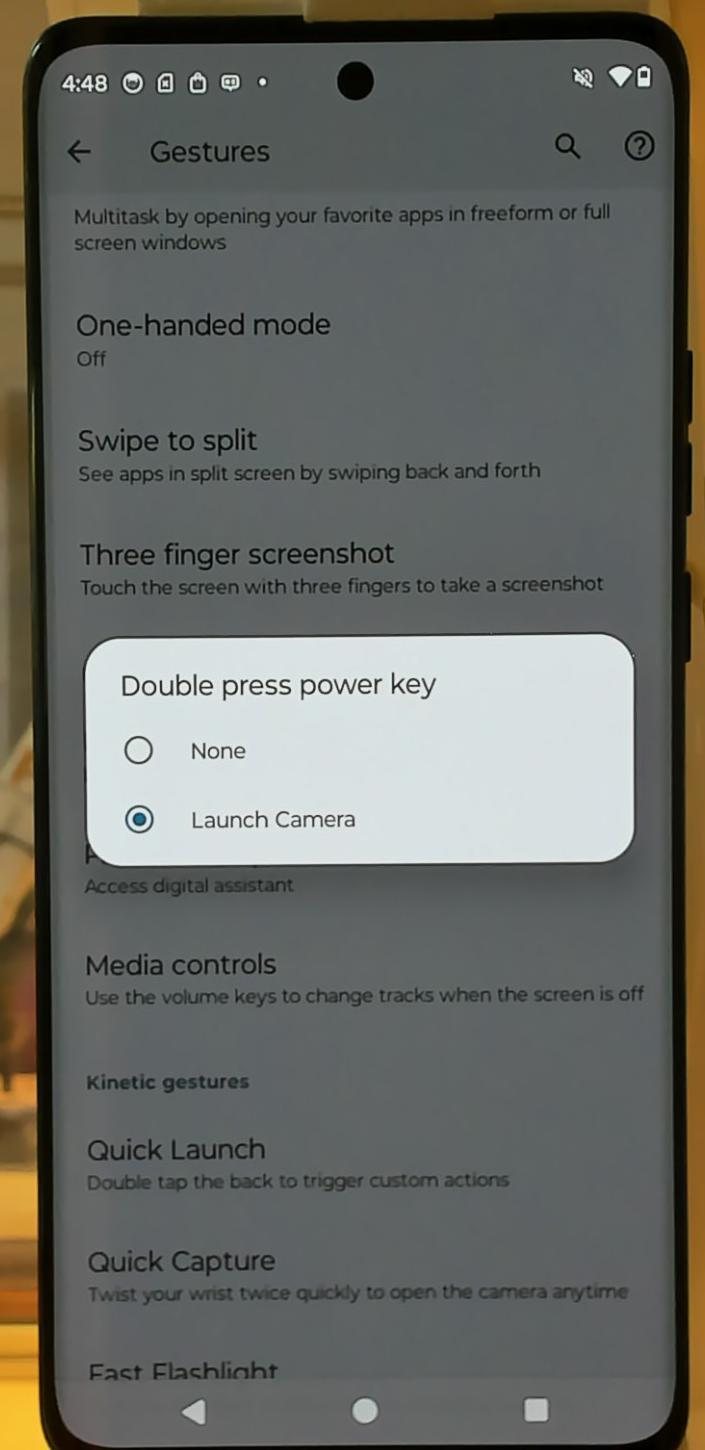RadioButton: (116, 795, 376, 844), (112, 725, 255, 780)
